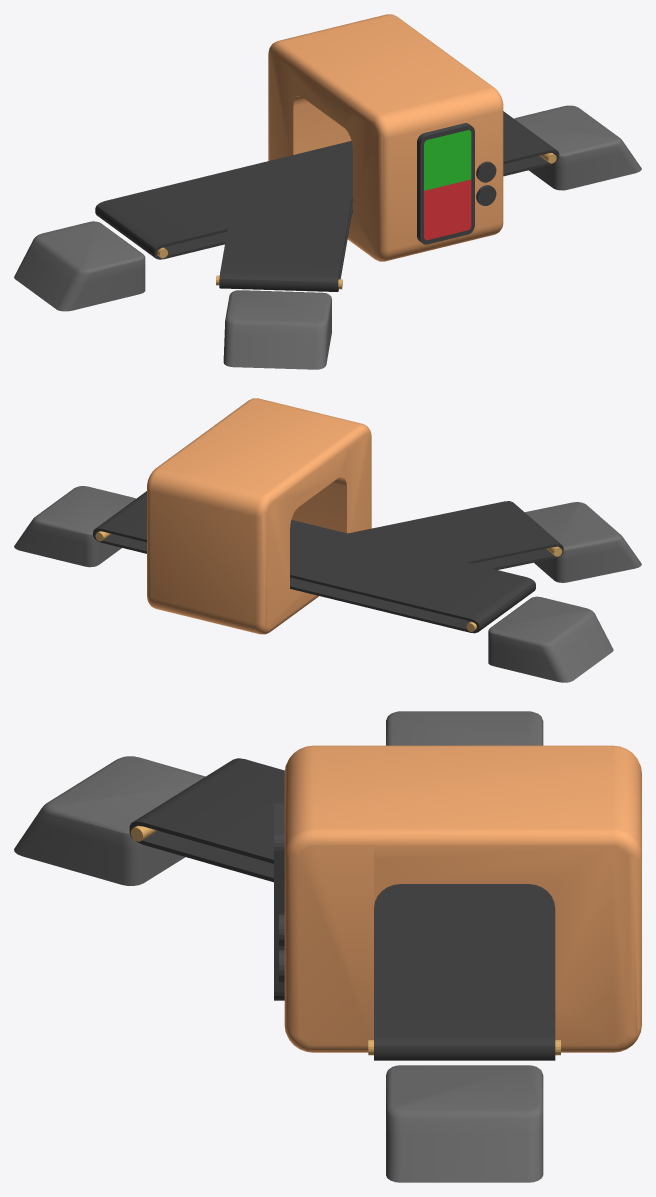
File: makina8.fbx
The picture shows the model from 3 angles, top to bottom: view 1: azimuth 30°, elevation 25°; view 2: azimuth 150°, elevation 25°; view 3: azimuth 270°, elevation 25°; orthographic projection. The views are drawn at different scales.
Visible parts, largest first — view 1: govde.008, palet.007, stack.001, palet.011, stack.009; view 2: govde.008, palet.007, stack.001, palet.011, stack.009; view 3: govde.008, palet.007, stack.001, stack.009, palet.011.
Part boxes in pixels (bbox=[...]): govde.008: bbox=[268, 14, 503, 261]; palet.007: bbox=[95, 111, 559, 259]; stack.001: bbox=[14, 105, 641, 311]; palet.011: bbox=[216, 199, 351, 291]; stack.009: bbox=[223, 290, 331, 369]; govde.008: bbox=[147, 398, 371, 634]; palet.007: bbox=[93, 491, 535, 633]; stack.001: bbox=[14, 486, 613, 682]; palet.011: bbox=[348, 501, 563, 569]; stack.009: bbox=[525, 502, 641, 582]; govde.008: bbox=[274, 745, 641, 1052]; palet.007: bbox=[368, 884, 560, 1060]; stack.001: bbox=[386, 711, 543, 1182]; stack.009: bbox=[14, 756, 205, 885]; palet.011: bbox=[129, 758, 284, 882].
Size of the model in its own units: 761 by 182 by 464.
